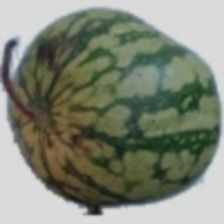watermelon: (40, 54, 201, 201)
